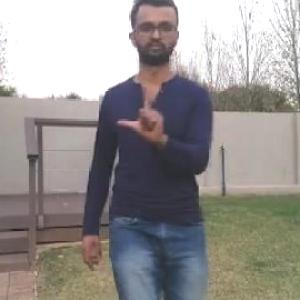land_hand: (114, 81, 170, 146)
